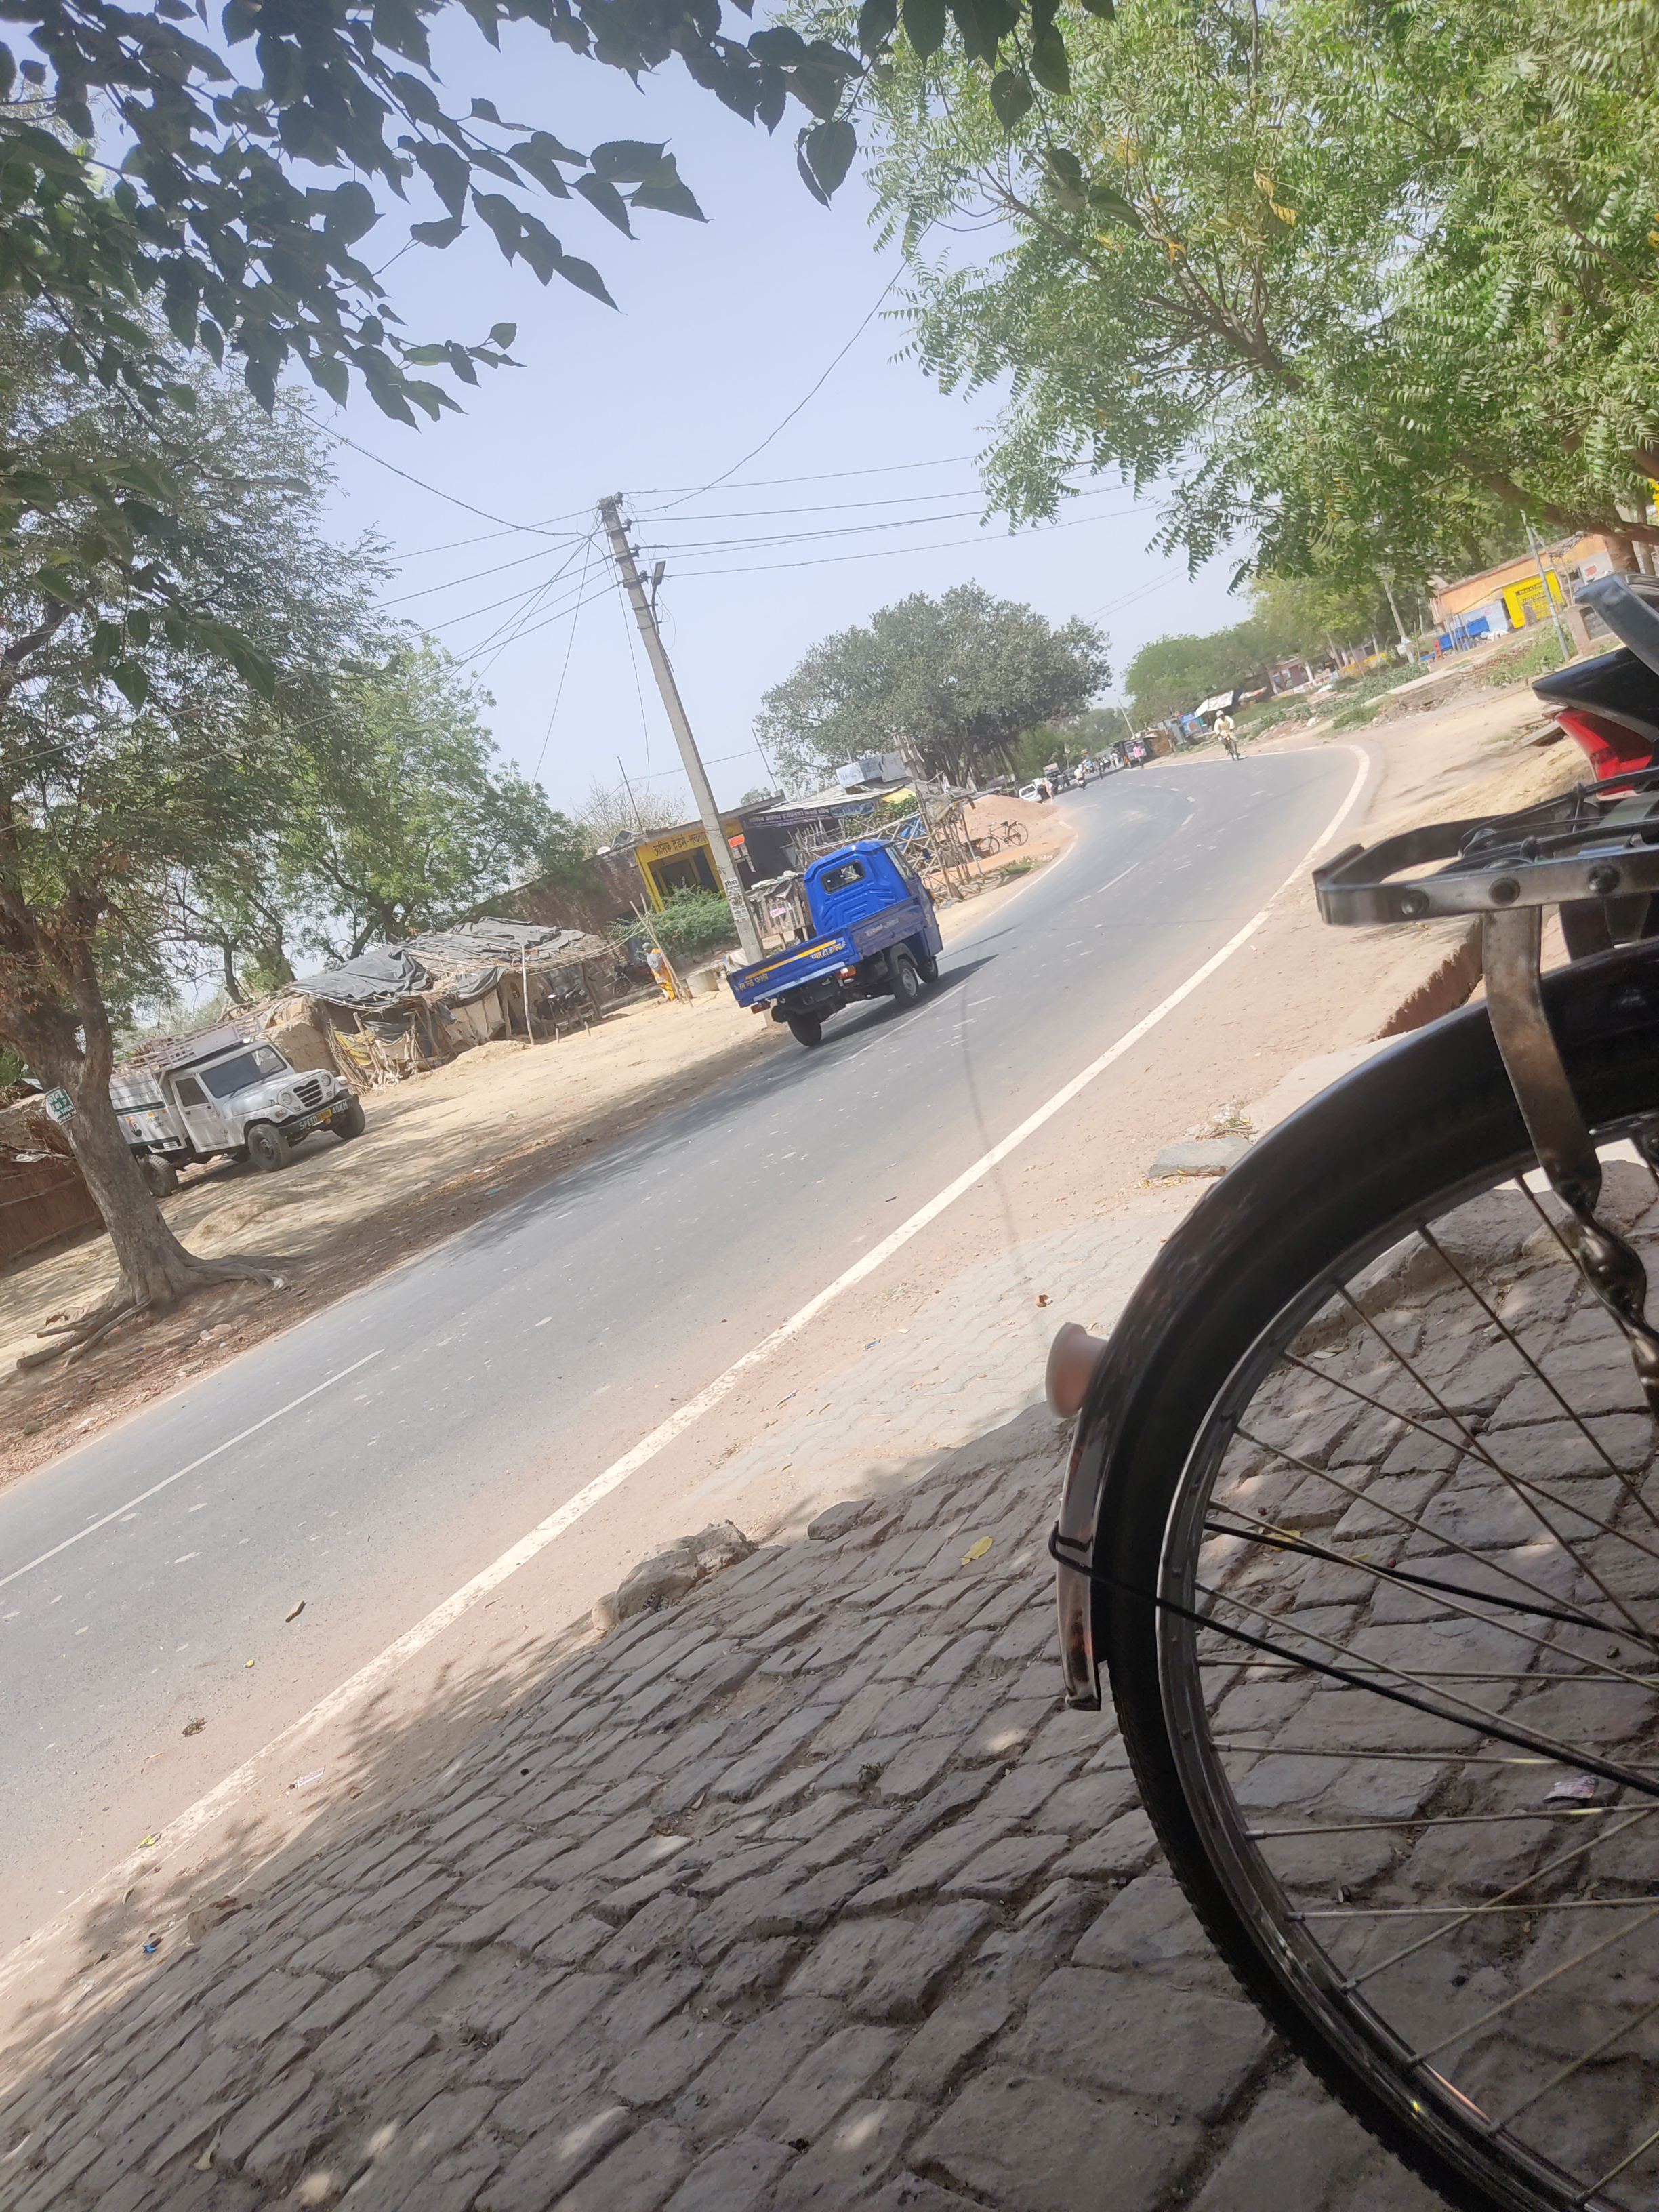auto: (728, 840, 941, 1045)
bicycle: (978, 820, 1028, 855)
car: (1018, 782, 1042, 803)
tempo: (1119, 738, 1147, 765)
two_wheelers: (1077, 773, 1086, 789)
vehicle_truck: (105, 1015, 364, 1198)
